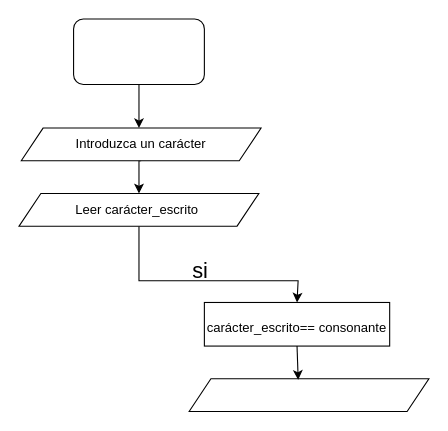
Some shapes in this 448 by 431 pixel diagram are drawn without their labels. The centre of each missing label's shape, as x and y in pixels:
Escribir (" El carácter escrito es consonante "): (x=308, y=394)
iniciar: (x=138, y=51)
